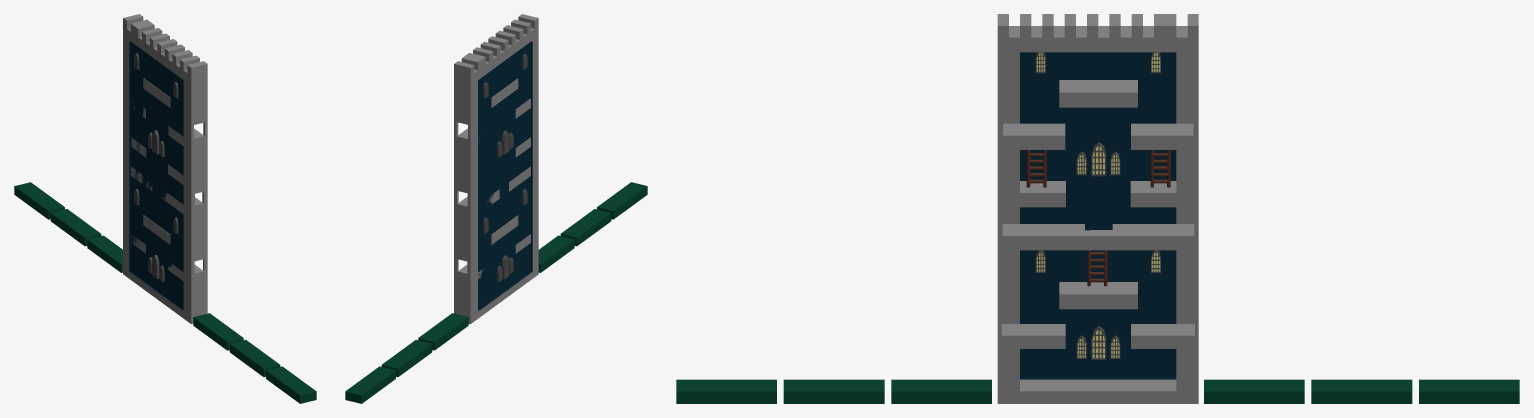
The model's file is game-test5.fbx.
3 views of the same model, side by side, from view 1: azimuth 30°, elevation 25°; view 2: azimuth 150°, elevation 25°; view 3: azimuth 270°, elevation 25° (orthographic). The views are drawn at different scales.
Visible parts, largest first — view 1: Cube.004, fundo, Cube, Cube.007, Cube.008, Cube.002, Cube.001, Cube.006; view 2: Cube.004, fundo, Cube.008, Cube.001, Cube.006, Cube, Cube.007, Cube.002; view 3: Cube.004, fundo, Cube.001, Cube.007, Cube, Cube.002, Cube.006, Cube.008, Cylinder.
Part boxes in pixels (bbox=[...]): Cube.004: bbox=[123, 14, 207, 324]; fundo: bbox=[129, 41, 183, 310]; Cube: bbox=[266, 366, 316, 403]; Cube.007: bbox=[50, 209, 101, 246]; Cube.008: bbox=[14, 182, 64, 219]; Cube.002: bbox=[193, 313, 243, 350]; Cube.001: bbox=[229, 340, 280, 376]; Cube.006: bbox=[87, 235, 122, 272]; Cube.004: bbox=[454, 14, 538, 324]; fundo: bbox=[478, 41, 532, 310]; Cube.008: bbox=[345, 366, 395, 403]; Cube.001: bbox=[560, 209, 611, 246]; Cube.006: bbox=[418, 313, 468, 350]; Cube: bbox=[597, 182, 647, 219]; Cube.007: bbox=[381, 340, 432, 376]; Cube.002: bbox=[538, 235, 574, 272]; Cube.004: bbox=[997, 14, 1198, 403]; fundo: bbox=[1020, 52, 1176, 379]; Cube.001: bbox=[783, 379, 884, 403]; Cube.007: bbox=[1311, 379, 1412, 403]; Cube: bbox=[676, 379, 776, 403]; Cube.002: bbox=[891, 379, 991, 403]; Cube.006: bbox=[1204, 379, 1304, 403]; Cube.008: bbox=[1419, 379, 1519, 403]; Cylinder: bbox=[1026, 150, 1170, 286].
Size of the model in its own units: 152 by 1924 by 3889.
